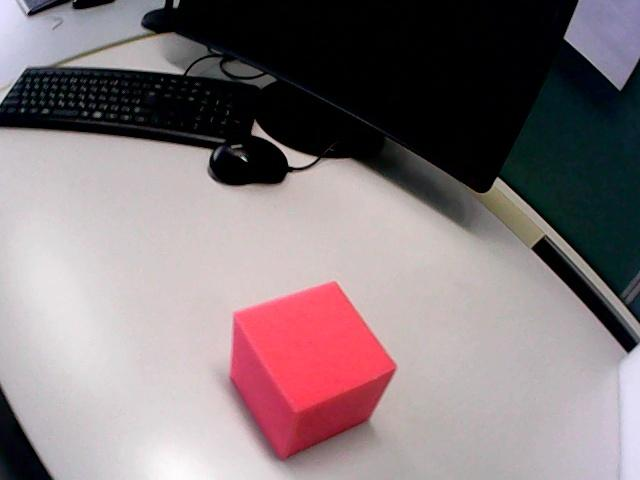red_block: (230, 282, 395, 458)
